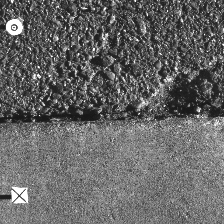circle: (6, 19, 23, 35)
crack: (1, 104, 223, 125)
square: (11, 187, 28, 204)
